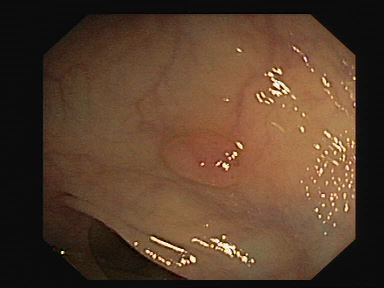polyp: (156, 112, 276, 208)
